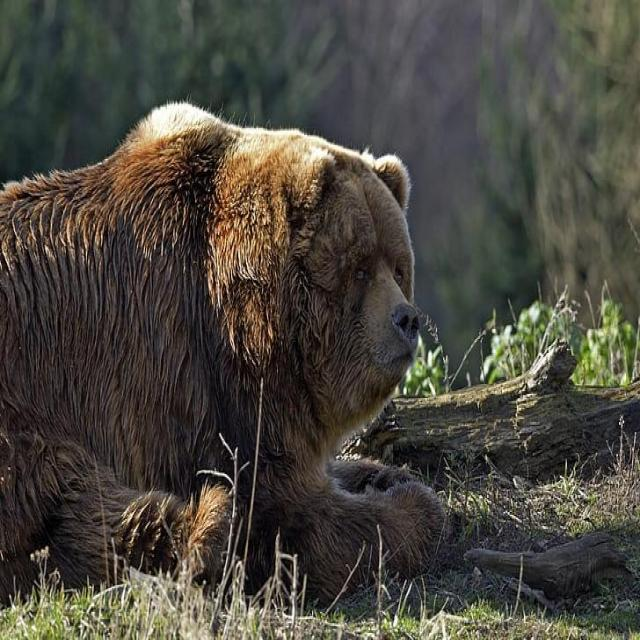Bear: (0, 103, 447, 612)
